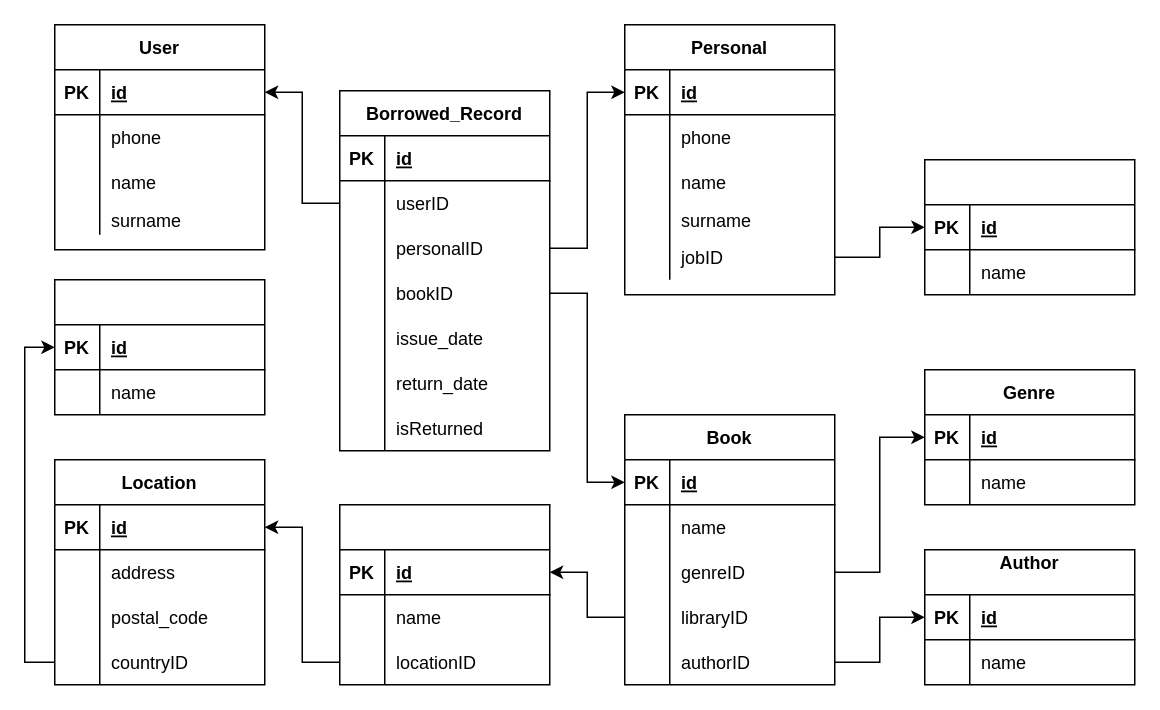
This 1160x710 diagram has some shape labels left out. The shapes that lost their labels are listed below. From the top down, each one's box as (x1, y1, x2, y2) in pixels, then its label:
(923, 158, 1135, 295): Job
(53, 278, 265, 415): Country
(338, 503, 550, 685): Library
